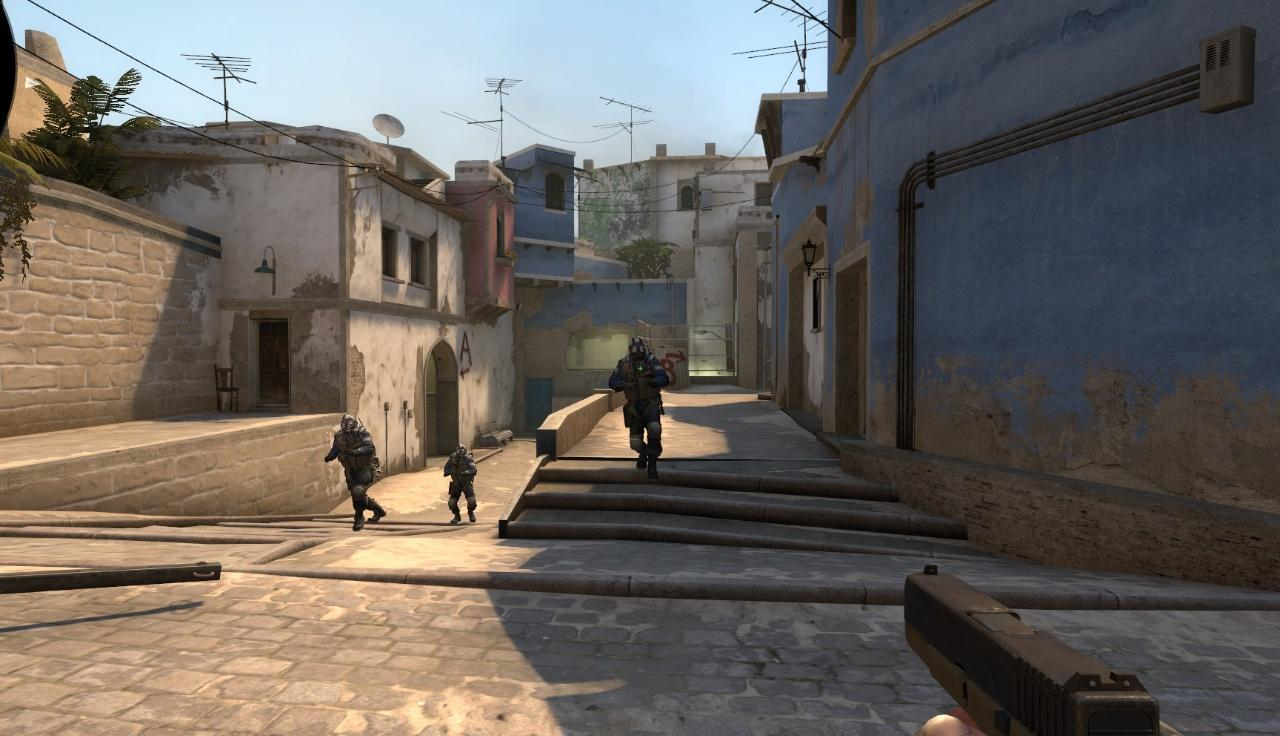ct: (612, 337, 665, 478), (333, 415, 386, 532), (447, 445, 477, 525)
cthead: (629, 338, 648, 363), (340, 415, 357, 437), (455, 445, 467, 459)
pistol: (904, 567, 1167, 736)
